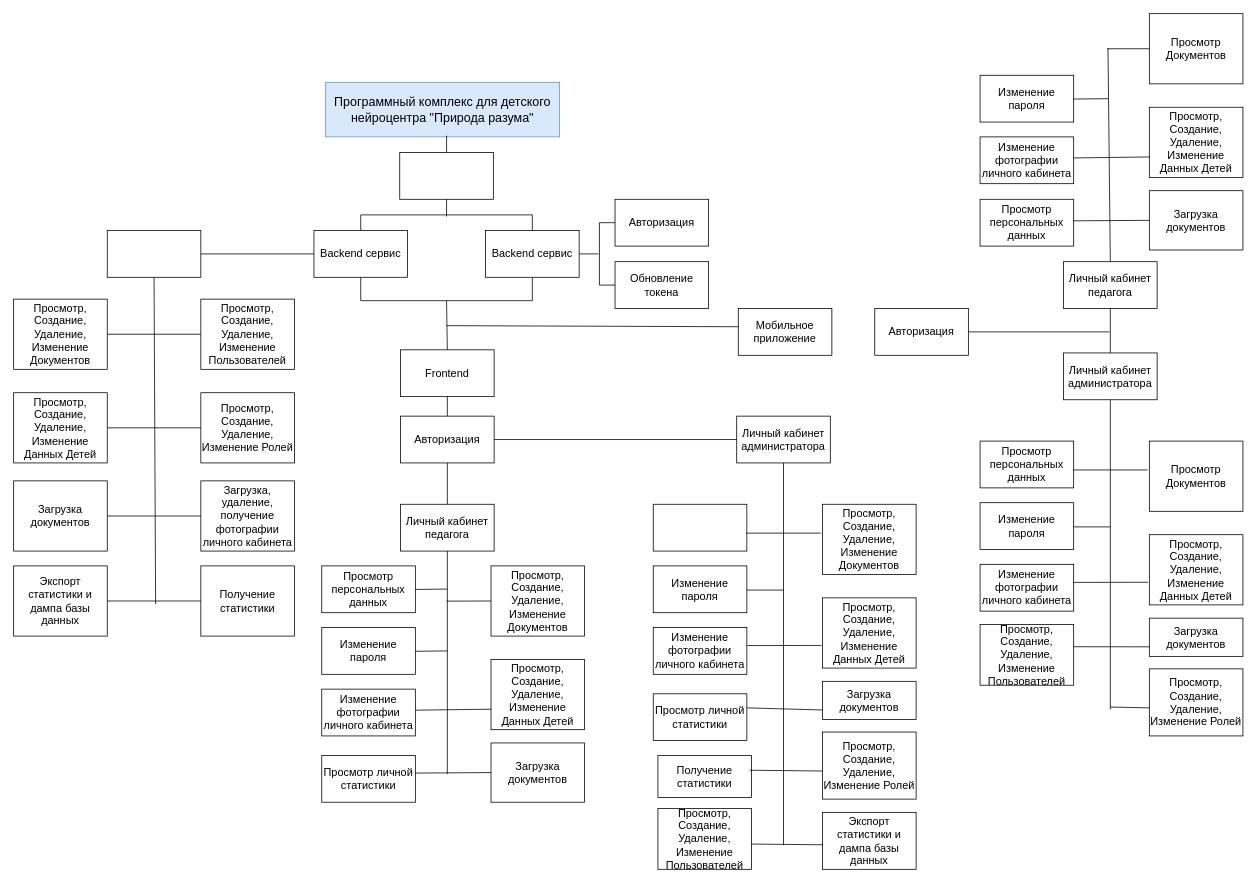
Image size: 1257x885. Some labels were removed from this diagram. The box of each missing label's shape, as (x1, y1, x2, y2) in pixels:
API: (106, 230, 201, 277)
База данных: (399, 152, 493, 199)
Просмотра персональных данных: (652, 503, 747, 551)
